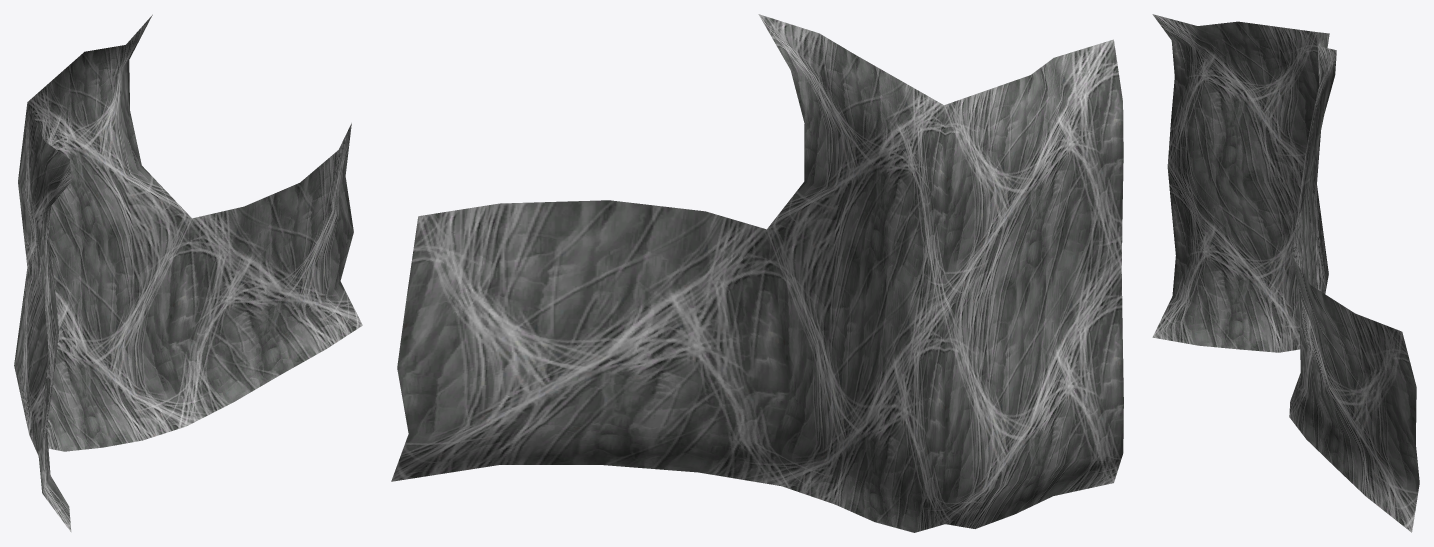
Rendered from SWORDLIGHT20_PS-AREA01_36.fbx.
3 renders of one model, left to right at view 1: azimuth 30°, elevation 25°; view 2: azimuth 150°, elevation 25°; view 3: azimuth 270°, elevation 25°, orthographic. The views are drawn at different scales.
Parts seen in each view (by area): view 1: SWORDLIGHT20_PS-AREA01_36; view 2: SWORDLIGHT20_PS-AREA01_36; view 3: SWORDLIGHT20_PS-AREA01_36.
Part boxes in pixels (bbox=[...]): SWORDLIGHT20_PS-AREA01_36: bbox=[14, 14, 362, 532]; SWORDLIGHT20_PS-AREA01_36: bbox=[391, 14, 1123, 532]; SWORDLIGHT20_PS-AREA01_36: bbox=[1152, 14, 1419, 532].
Size of the model in its own units: 113152 by 96030 by 62899.
Materials: 1 (1 with a texture image).
